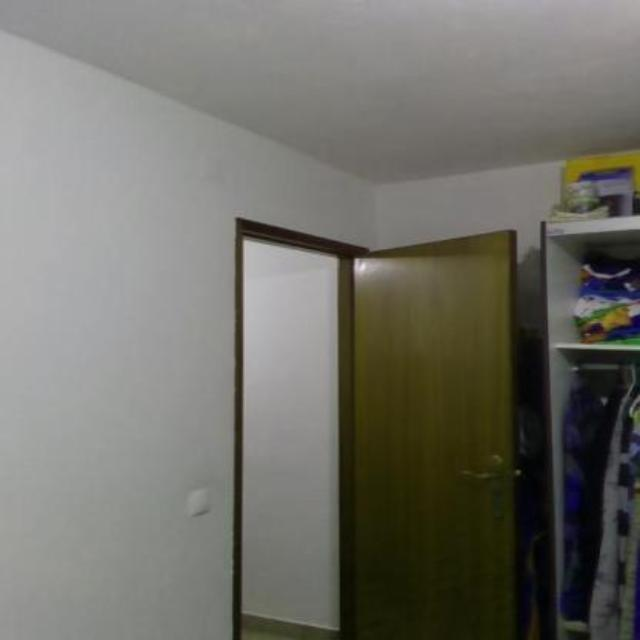door: (346, 228, 518, 639)
